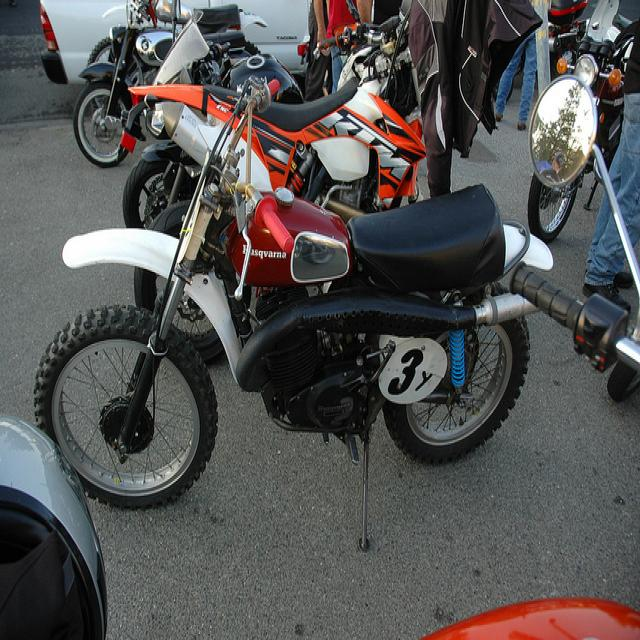motor: (35, 77, 553, 559), (119, 4, 428, 229), (516, 79, 640, 384), (529, 7, 628, 243), (72, 24, 185, 170), (144, 24, 303, 108), (432, 597, 640, 630)
